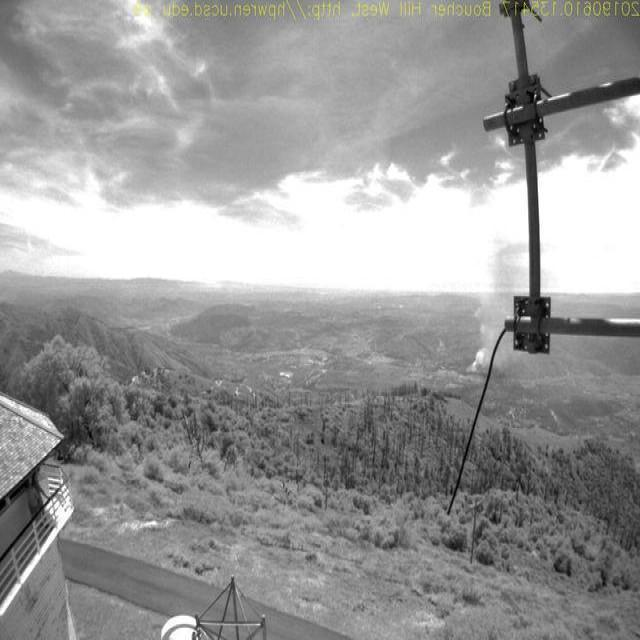Smoke: (468, 240, 528, 375)
